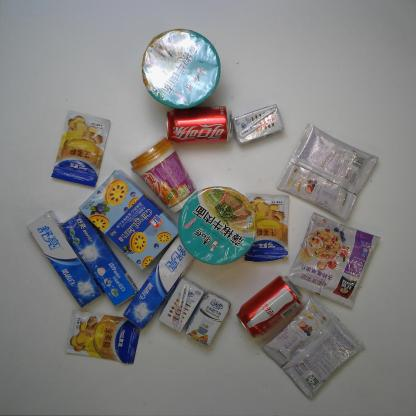Dessert: (78, 169, 178, 269)
Drink: (235, 274, 304, 338), (163, 104, 233, 146)
Instant Drink: (262, 297, 366, 399), (274, 122, 380, 222), (286, 212, 383, 310), (129, 136, 199, 213)
Instant Noodles: (140, 28, 221, 109), (178, 186, 256, 264)
Milk: (158, 276, 206, 332), (186, 290, 231, 347), (232, 104, 285, 144)
Personal Hygiene: (25, 209, 106, 310), (62, 210, 139, 310), (124, 235, 194, 330)
Seasoner: (49, 110, 113, 191), (65, 308, 140, 366), (242, 190, 293, 264)
